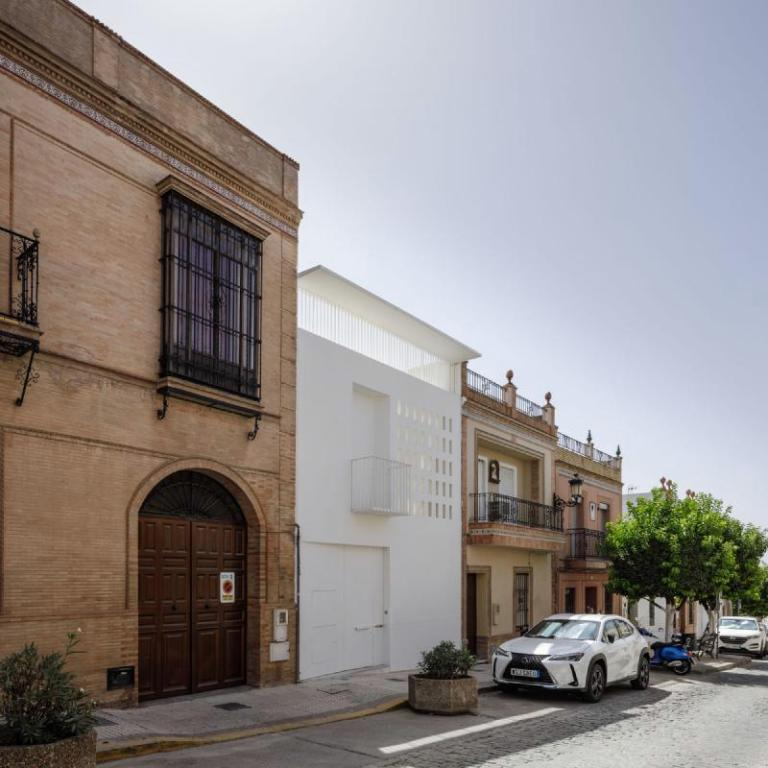white-walls: (398, 533, 449, 633)
